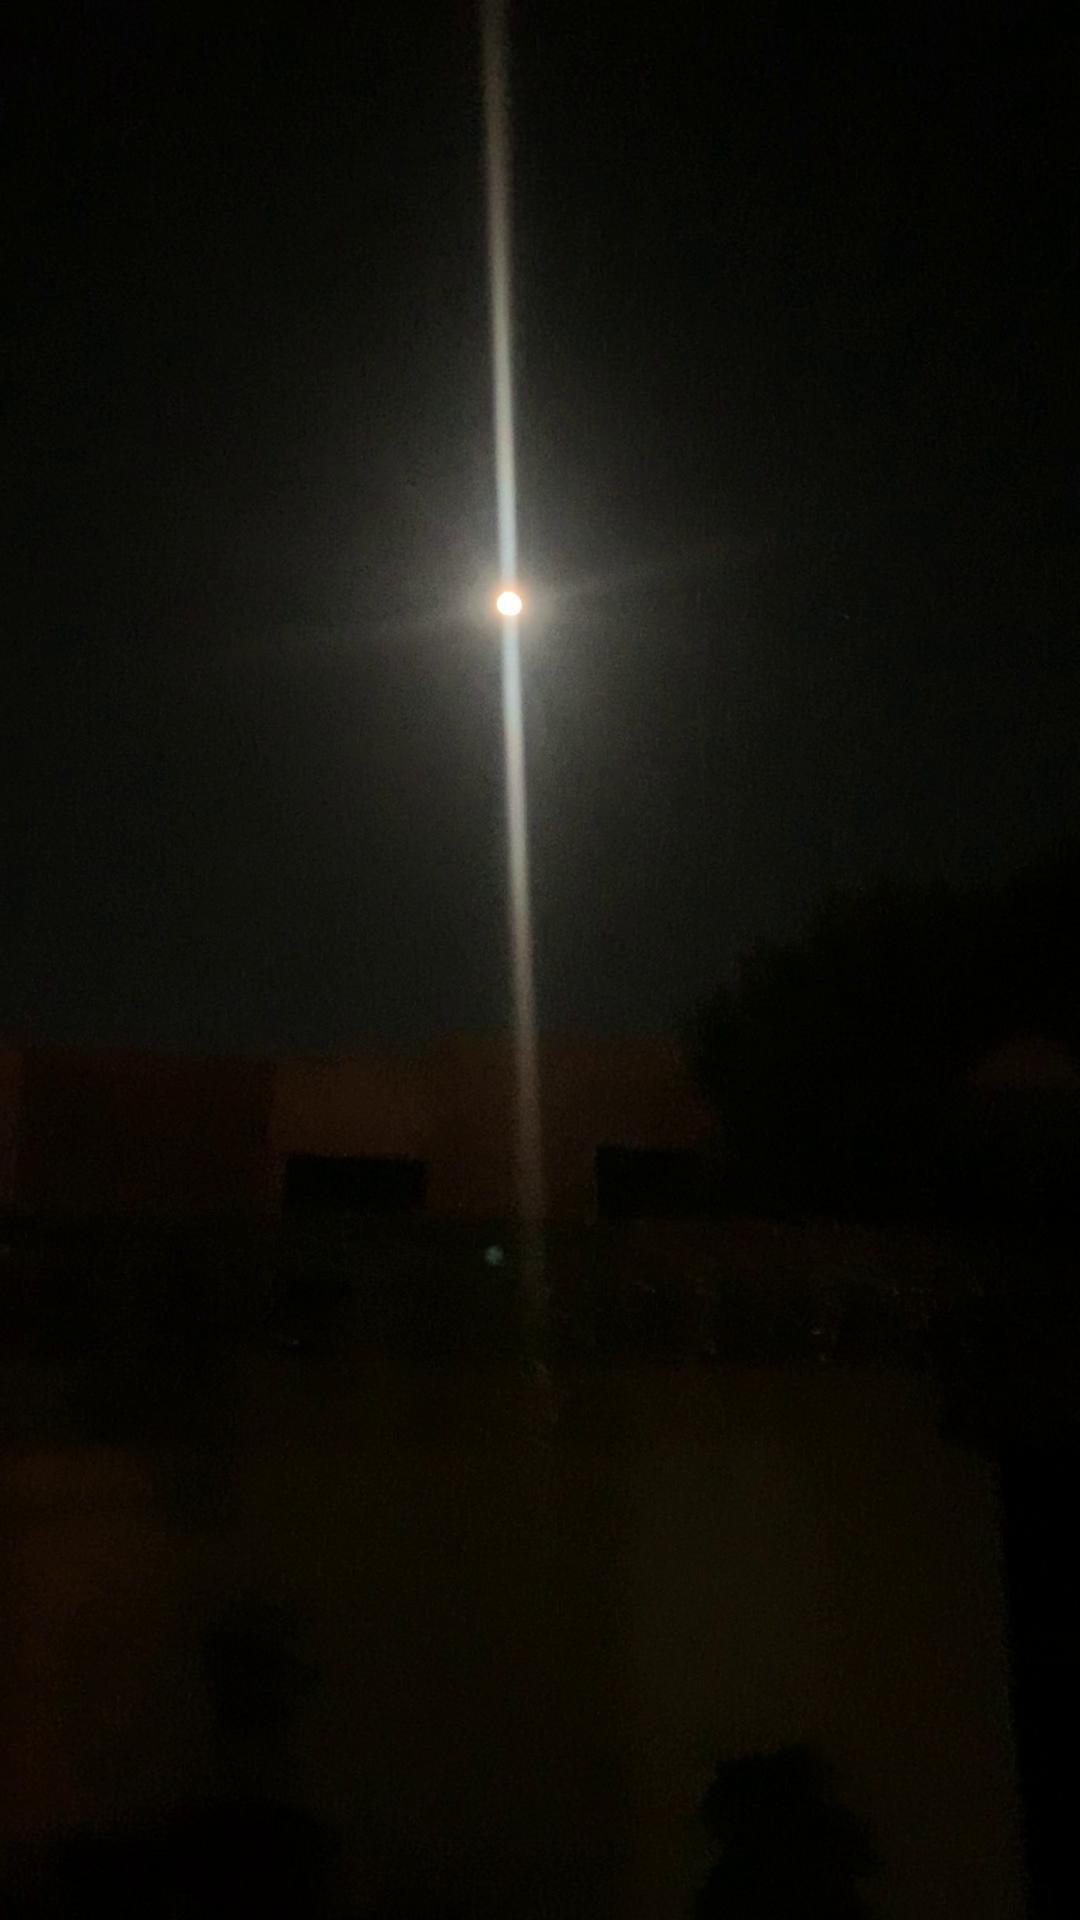moon: (487, 575, 562, 654)
